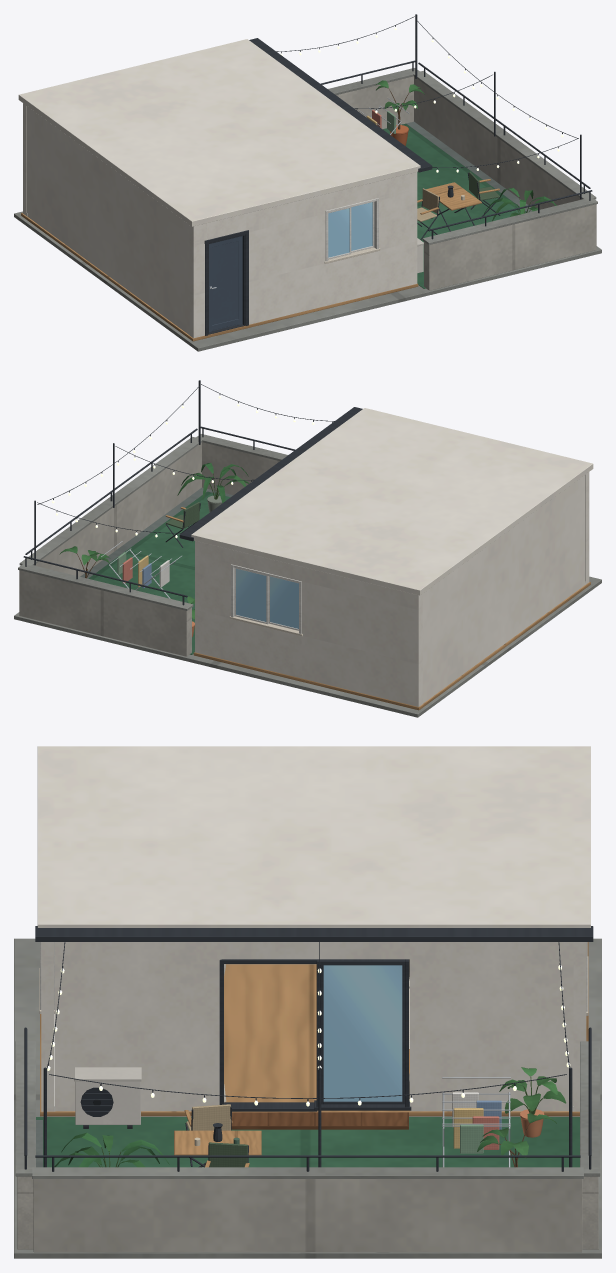
The model's file is desktop.glb.
3 renders of one model, top to bottom at view 1: azimuth 30°, elevation 25°; view 2: azimuth 150°, elevation 25°; view 3: azimuth 270°, elevation 25°, orthographic. The views are drawn at different scales.
Visible parts, largest first — view 1: BG_Ceiling, BG_Wall_South, BG_Wall_West, BG_Floor, BG_Wall_East, BG_Wall_North, BG_Furniture_Hero, BG_Props_Clutter; view 2: BG_Ceiling, BG_Wall_North, BG_Wall_West, BG_Floor, BG_Wall_East, BG_Wall_South, BG_Furniture_Hero, BG_Props_Clutter; view 3: BG_Ceiling, BG_Wall_North, BG_Wall_East, BG_Floor, BG_Furniture_Hero, BG_Props_Clutter, BG_Wall_South.
Part boxes in pixels (x1,y1,x2,y2): BG_Ceiling: (18, 16, 578, 226); BG_Wall_South: (189, 172, 597, 338); BG_Wall_West: (27, 106, 189, 334); BG_Floor: (14, 121, 601, 351); BG_Wall_East: (413, 62, 596, 209); BG_Wall_North: (23, 60, 419, 216); BG_Furniture_Hero: (366, 80, 556, 221); BG_Props_Clutter: (358, 14, 581, 273); BG_Ceiling: (37, 384, 593, 595); BG_Wall_North: (18, 541, 422, 706); BG_Wall_West: (422, 475, 584, 703); BG_Floor: (14, 487, 601, 717); BG_Wall_East: (19, 428, 202, 576); BG_Wall_South: (196, 426, 589, 584); BG_Furniture_Hero: (59, 463, 249, 636); BG_Props_Clutter: (34, 380, 200, 598); BG_Ceiling: (35, 746, 593, 1106); BG_Wall_North: (54, 942, 600, 1249); BG_Wall_East: (32, 1155, 583, 1252); BG_Floor: (14, 938, 601, 1258); BG_Furniture_Hero: (54, 959, 566, 1167); BG_Props_Clutter: (43, 1067, 572, 1167); BG_Wall_South: (15, 942, 55, 1249).
Bounding box in the file's own units: 9.5 × 2.8 × 7.5.
4 materials, 4 textured.
